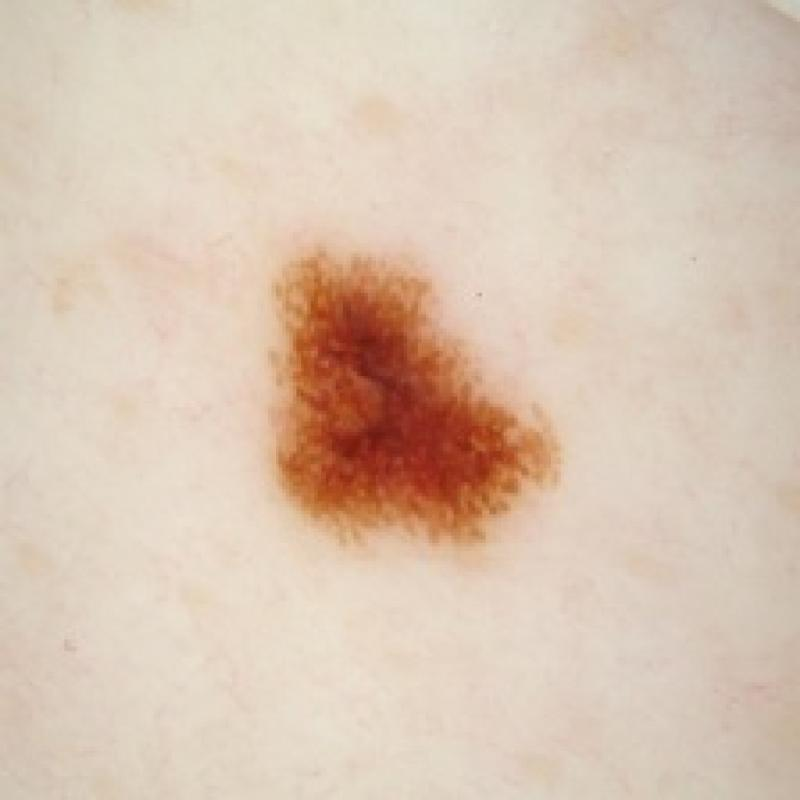malignant: (213, 226, 633, 591)
